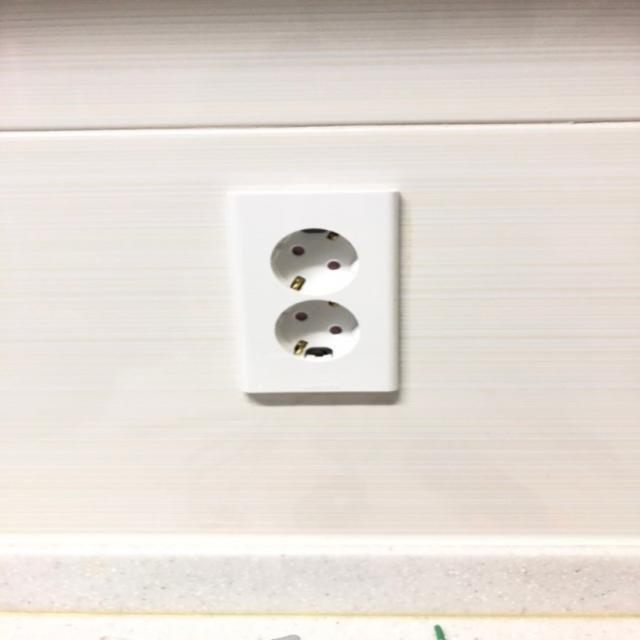typeb: (175, 168, 490, 440)
